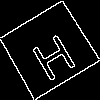H: (24, 24, 79, 83)
